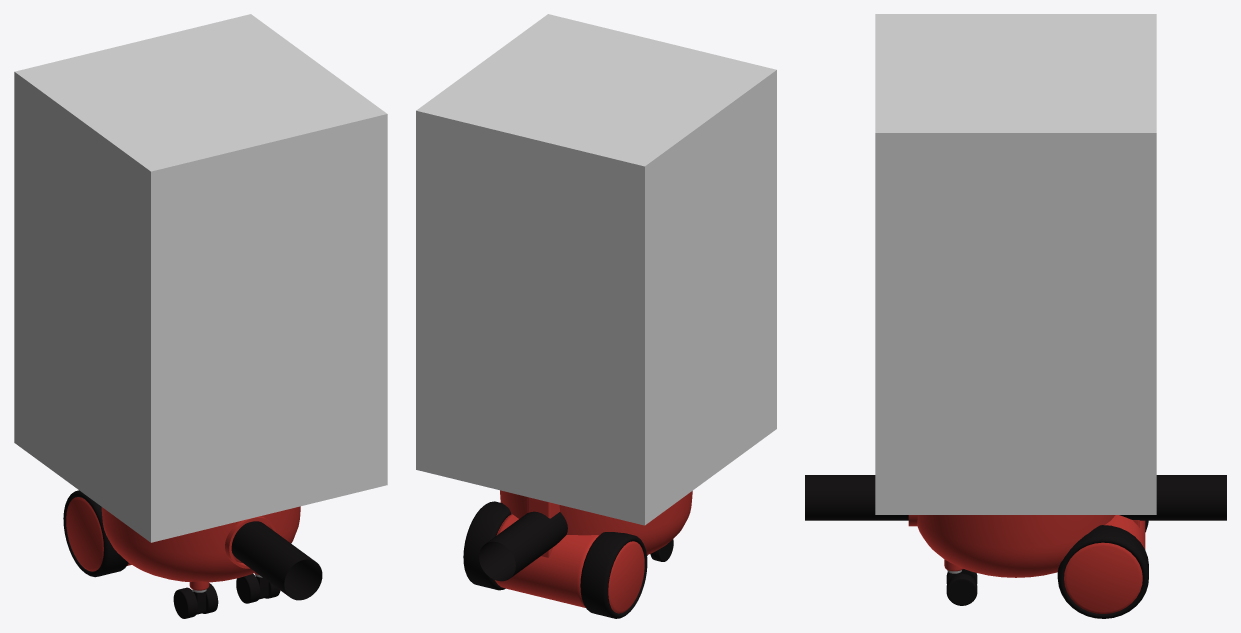
Rendered from henry_robot.FBX.
3 renders of one model, left to right at view 1: azimuth 30°, elevation 25°; view 2: azimuth 150°, elevation 25°; view 3: azimuth 270°, elevation 25°, orthographic. The views are drawn at different scales.
Parts seen in each view (by area): view 1: robot, henry, tube; view 2: robot, henry, tube; view 3: robot, henry, tube.
Boxes of the visible parts, x1,y1,x2,y2 form: robot: (14,14,387,542); henry: (63,490,300,618); tube: (231,521,322,600); robot: (416,14,776,525); henry: (463,490,692,618); tube: (479,511,567,581); robot: (875,14,1156,514); henry: (908,515,1148,618); tube: (805,475,1226,520).
Bounding box in the file's own units: 100 × 200 × 150.
